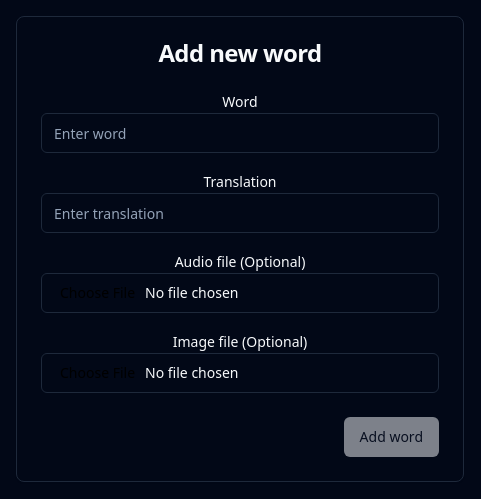
Test: AddWord › enables the submit button only when word and translation are provided
Check: the button "Add word" is disabled, box [344,417,439,457]
Type "test" into the field with placeholder "Enter word".
click(240, 133); type("test")  # box [41,113,439,153]
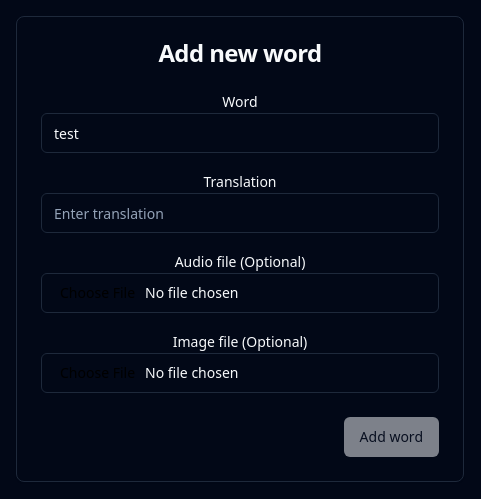
Check: the button "Add word" is disabled, box [344,417,439,457]
Type "test translation" into the field with placeholder "Enter translation".
click(240, 213); type("test translation")  # box [41,193,439,233]
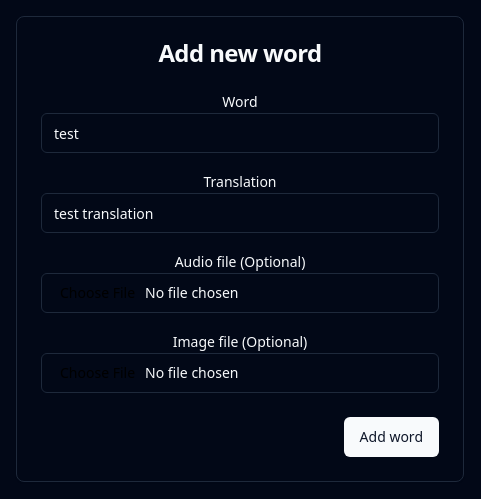
Check: the button "Add word" is enabled, box [344,417,439,457]
